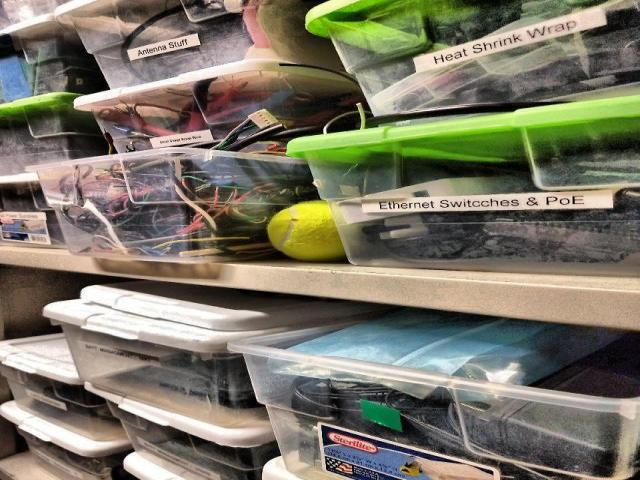tennis-ball: (266, 201, 346, 262)
